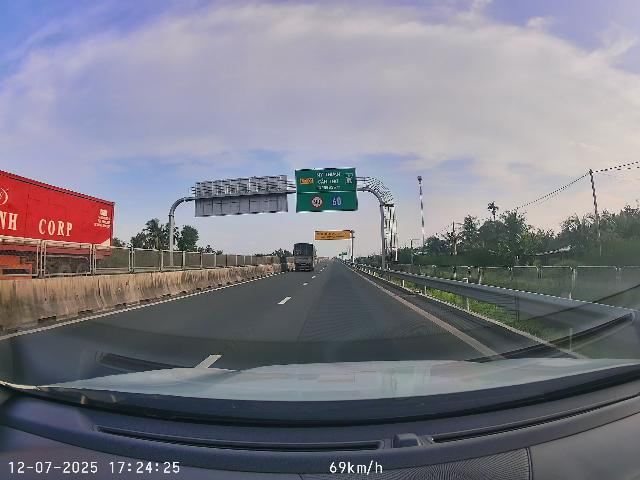127-toc-do-toi-da-90: (310, 195, 324, 209)
306-toc-do-toi-thieu-60: (330, 194, 343, 207)
437-bat-dau-duong-cao-toc: (344, 172, 354, 185)
